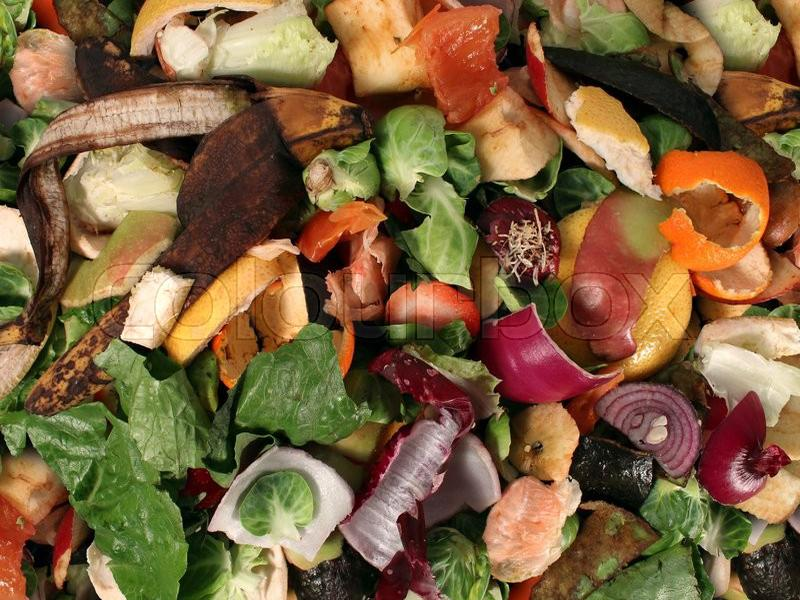vegetation: (2, 2, 800, 600)
